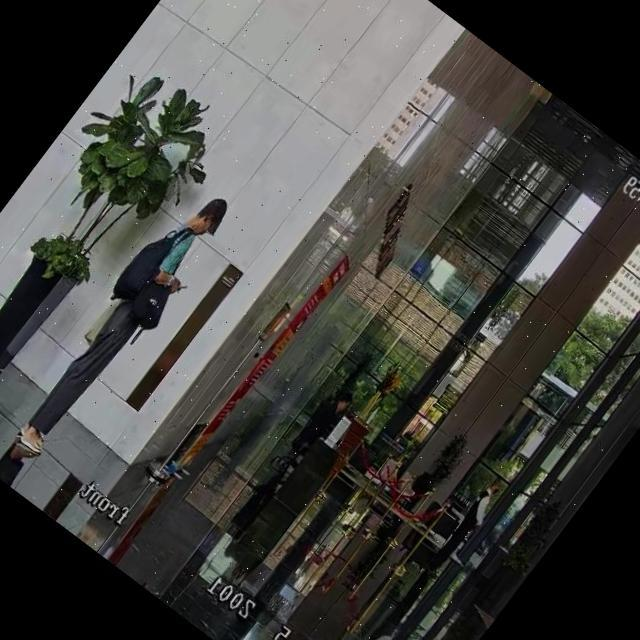person: (0, 179, 242, 482), (426, 476, 509, 577), (290, 380, 360, 460)
